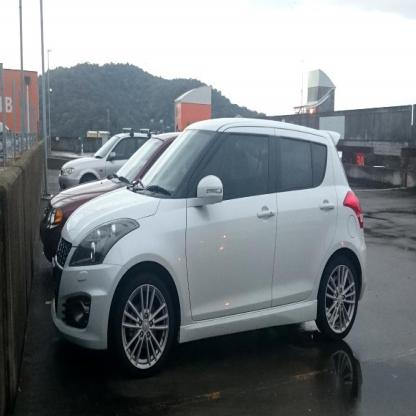Car: (46, 114, 373, 380), (40, 130, 183, 260), (58, 130, 152, 194)
